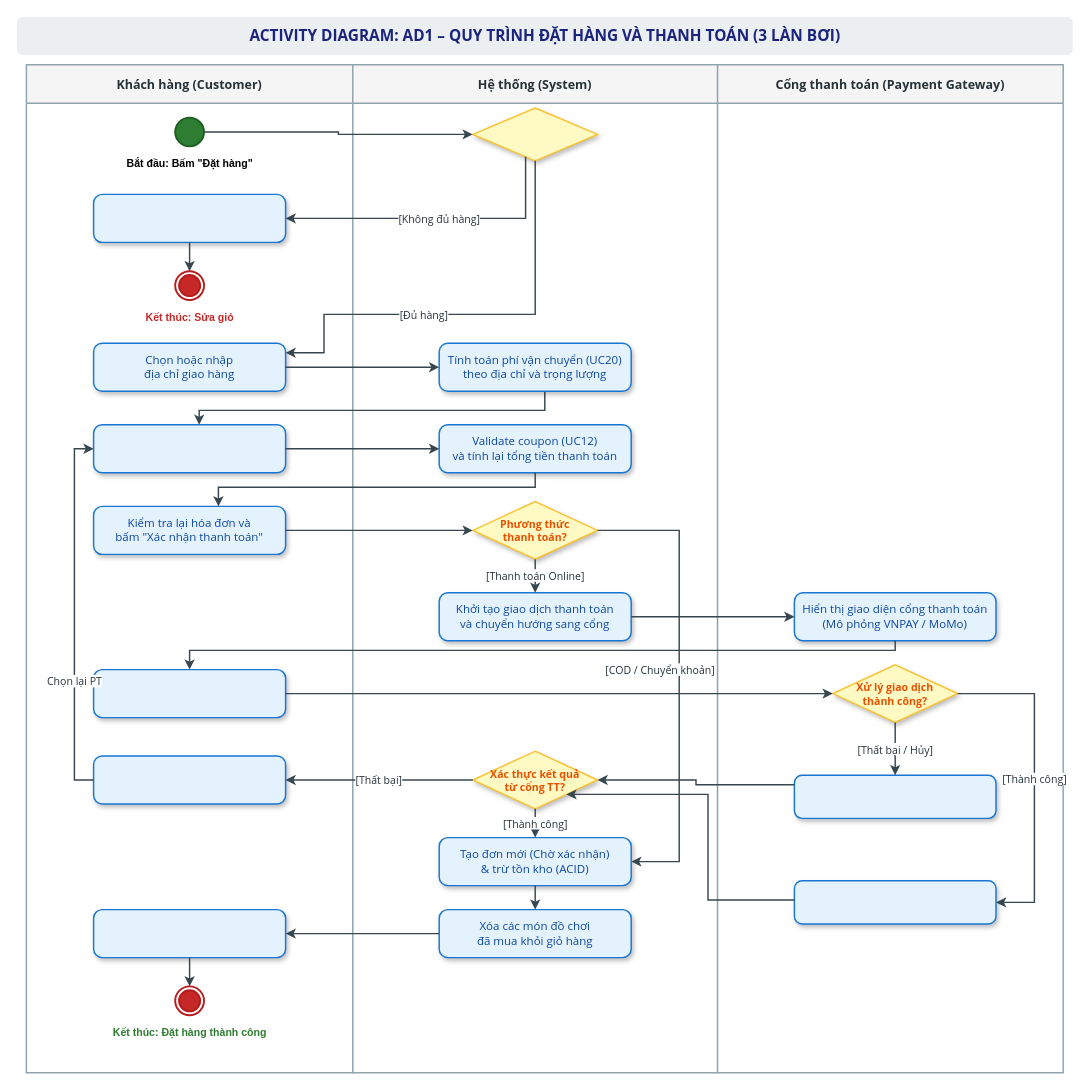
Image size: 1089x1090. Some labels were removed from this diagram. Each missing label, with the centre of its shape:
"Chọn phương thức thanh toán & nhập mã giảm giá (nếu có)" goes at [190,450].
"Gửi tín hiệu IPN / Callback (Failed) về hệ thống" goes at [895,797].
"Gửi tín hiệu IPN / Callback (Success) về hệ thống" goes at [895,903].
"Kiểm tra tồn kho (Real-time)?" goes at [536,135].
"Nhận thông báo lỗi thanh toán & chọn thanh toán lại" goes at [190,781].
"Nhận thông báo đặt hàng thành công & mã đơn hàng" goes at [190,935].
"Thực hiện xác thực thanh toán (OTP / Quét mã QR)" goes at [190,695].
"Xem thông báo hết hàng và chỉnh sửa lại giỏ hàng" goes at [190,219].
